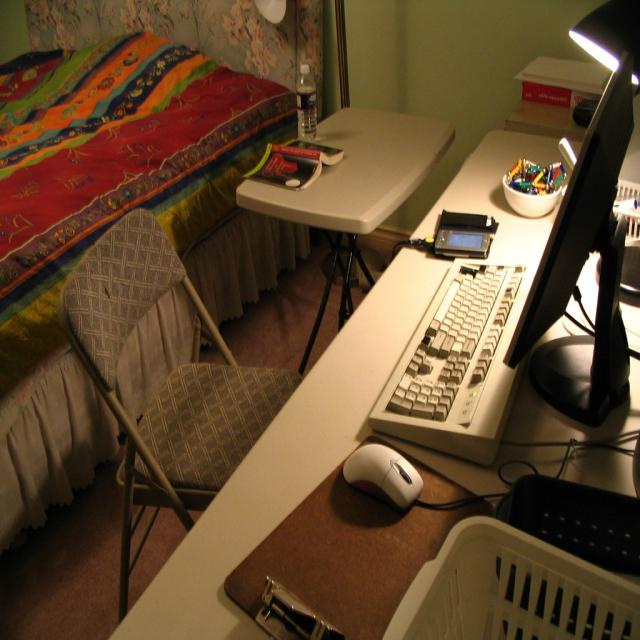chair: (60, 212, 305, 623)
desk: (110, 130, 639, 640)
keyboard: (368, 260, 529, 460)
laptop: (362, 57, 634, 474)
mouse: (342, 442, 424, 512)
